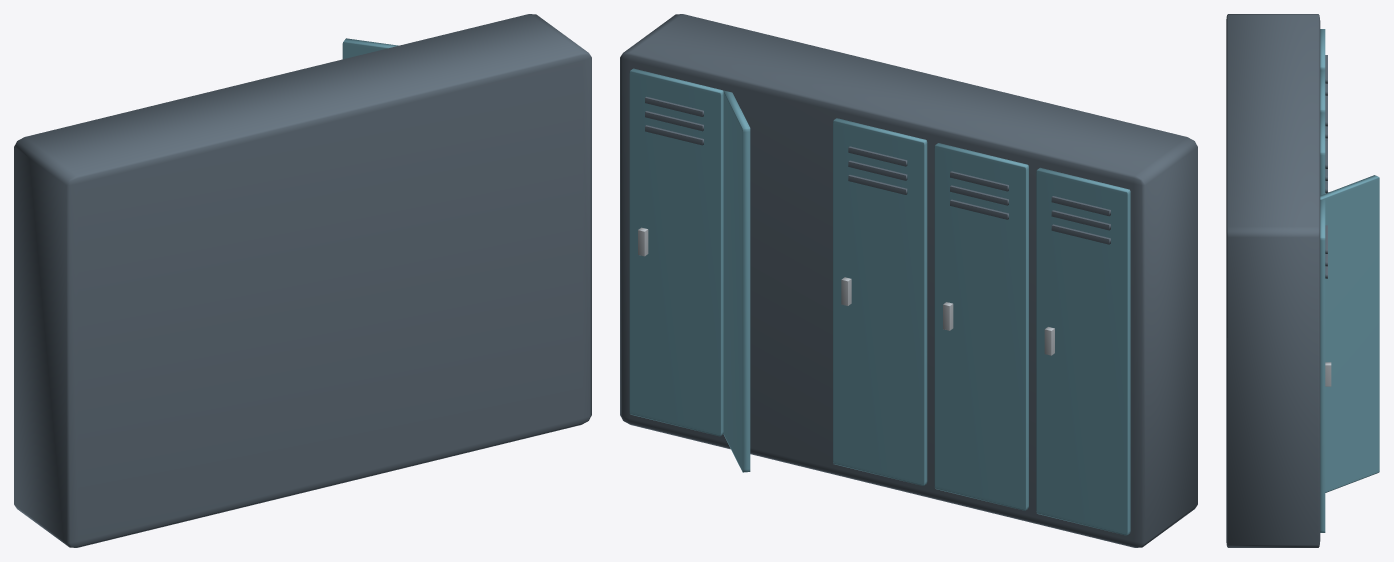
File: SM_School_LockerBank.fbx
3 renders of one model, left to right at view 1: azimuth 30°, elevation 25°; view 2: azimuth 150°, elevation 25°; view 3: azimuth 270°, elevation 25°, orthographic. The views are drawn at different scales.
Visible parts, largest first — view 1: SM_School_LockerBank; view 2: SM_School_LockerBank; view 3: SM_School_LockerBank.
Boxes of the visible parts, <box> form: SM_School_LockerBank: <box>14,14,591,547</box>; SM_School_LockerBank: <box>620,14,1197,547</box>; SM_School_LockerBank: <box>1226,14,1379,547</box>.
Size of the model in its own units: 3.1 by 2.1 by 0.9138.
